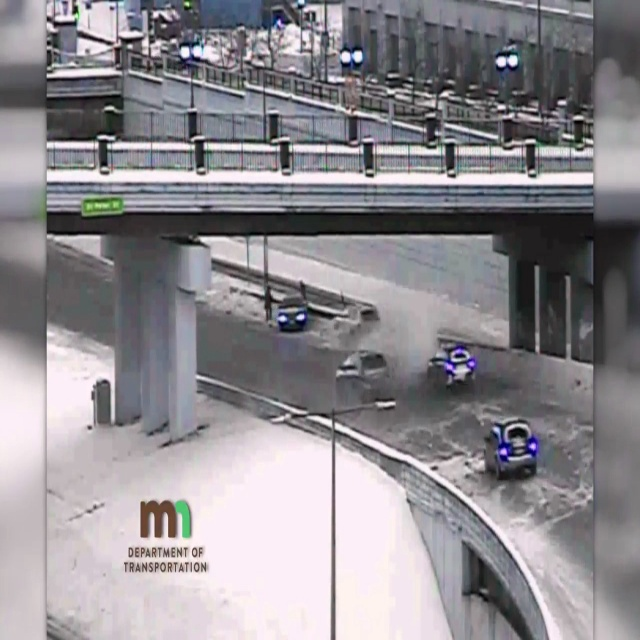acc: (278, 293, 389, 351)
